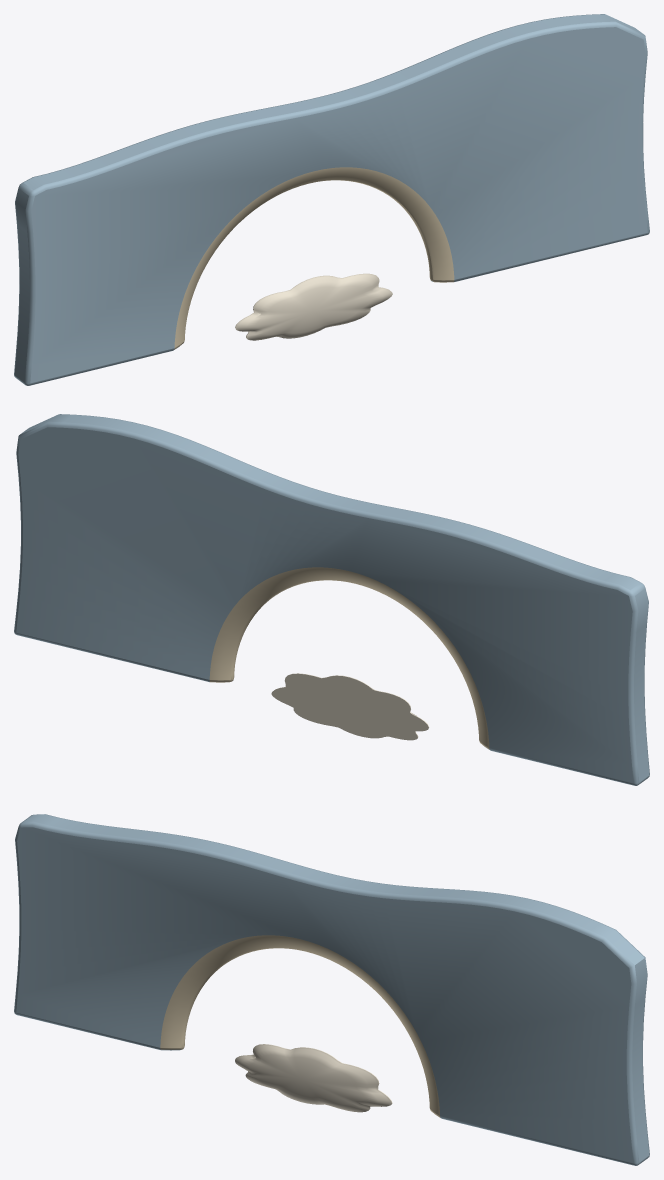
File: playroom-entry-shell.glb
The picture shows the model from 3 angles, top to bottom: view 1: azimuth 30°, elevation 25°; view 2: azimuth 150°, elevation 25°; view 3: azimuth 330°, elevation 25°; orthographic projection.
Visible parts, largest first — view 1: RainbowPortalWall — Portal wall, CloudReliefC — CloudReliefC relief; view 2: RainbowPortalWall — Portal wall, CloudReliefC — CloudReliefC relief, CloudReliefA — CloudReliefA relief, CloudReliefB — CloudReliefB relief; view 3: RainbowPortalWall — Portal wall, CloudReliefC — CloudReliefC relief.
Part boxes in pixels (x1,y1,x2,y2): RainbowPortalWall — Portal wall: [14, 14, 649, 385]; CloudReliefC — CloudReliefC relief: [235, 273, 392, 340]; RainbowPortalWall — Portal wall: [14, 414, 649, 785]; CloudReliefC — CloudReliefC relief: [271, 673, 428, 740]; CloudReliefA — CloudReliefA relief: [297, 679, 406, 735]; CloudReliefB — CloudReliefB relief: [317, 692, 396, 730]; RainbowPortalWall — Portal wall: [14, 814, 649, 1165]; CloudReliefC — CloudReliefC relief: [235, 1044, 392, 1112].
Bounding box in the file's own units: 37.96 × 14.7 × 1.5.
